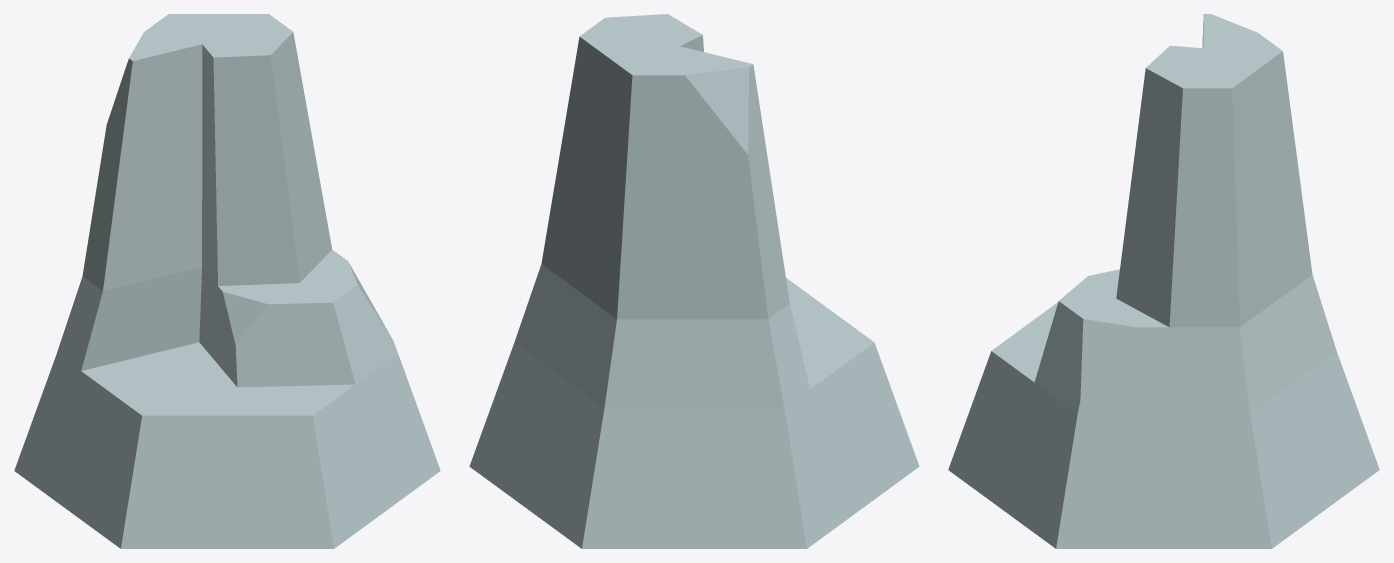
The model's file is stone_tallH.gltf.
3 renders of one model, left to right at view 1: azimuth 30°, elevation 25°; view 2: azimuth 150°, elevation 25°; view 3: azimuth 270°, elevation 25°, orthographic. The views are drawn at different scales.
Parts seen in each view (by area): view 1: stone_tallH; view 2: stone_tallH; view 3: stone_tallH.
Boxes of the visible parts, left/top/right/bottom form: stone_tallH: left=14, top=14, right=440, bottom=548; stone_tallH: left=469, top=14, right=919, bottom=548; stone_tallH: left=948, top=14, right=1379, bottom=548.
Size of the model in its own units: 0.5749 by 0.7108 by 0.6639.
